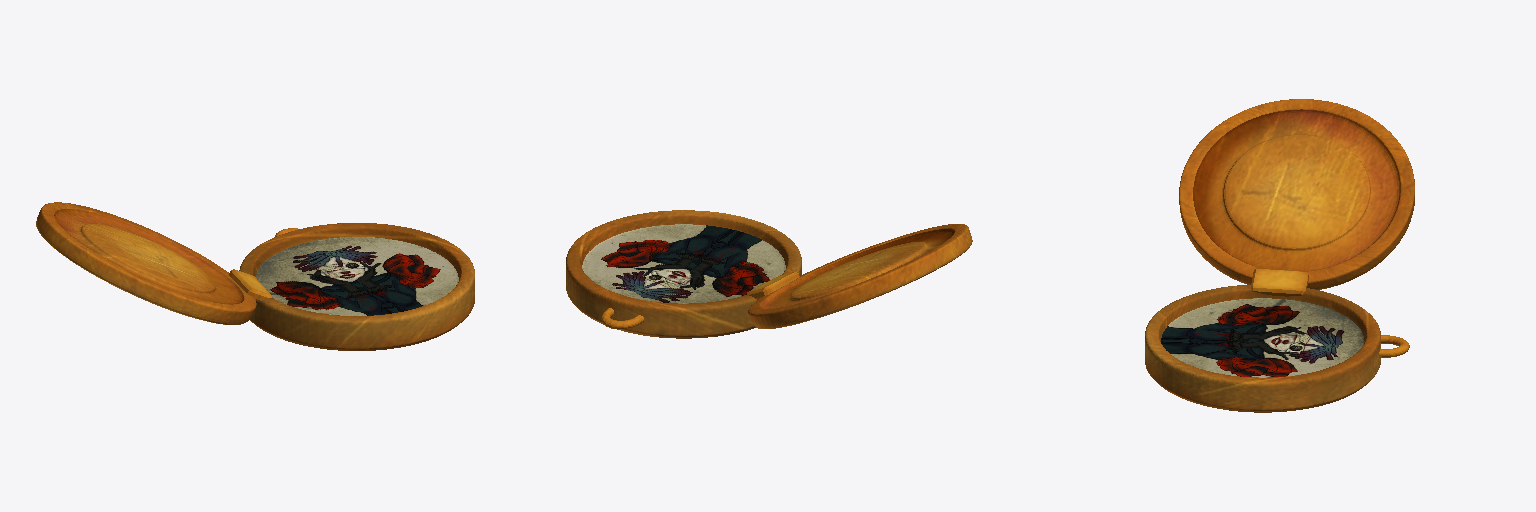
3 renders of one model, left to right at view 1: azimuth 30°, elevation 25°; view 2: azimuth 150°, elevation 25°; view 3: azimuth 270°, elevation 25°, orthographic.
Visible parts, largest first — view 1: polySurface2; view 2: polySurface2; view 3: polySurface2.
Part boxes in pixels (left/top/right/bottom): polySurface2: left=36, top=202, right=474, bottom=350; polySurface2: left=566, top=210, right=972, bottom=338; polySurface2: left=1145, top=99, right=1414, bottom=412.
Size of the model in its own units: 3.75 by 1.19 by 2.25.
1 materials, 1 textured.